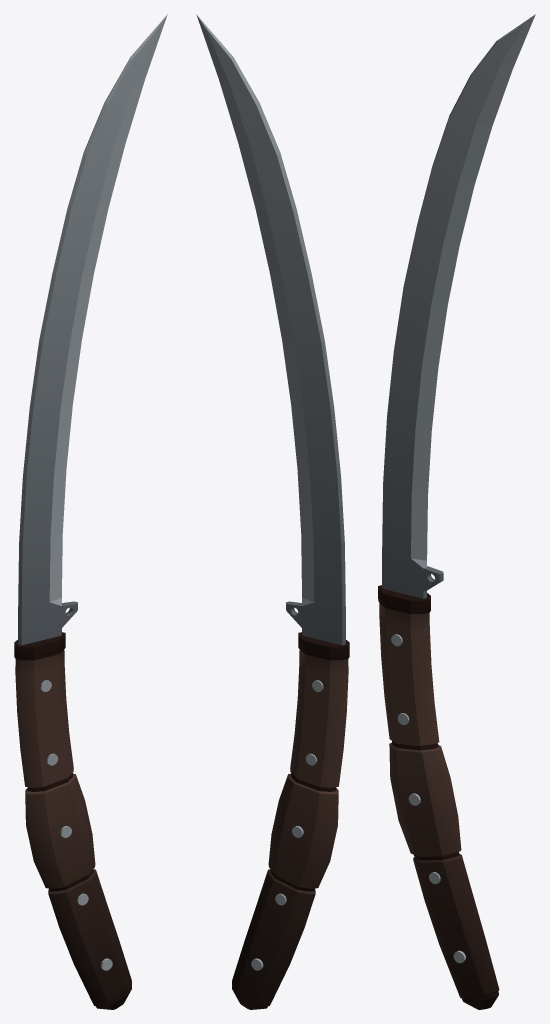
File: SM_Sword14_Rhomphaia_1.fbx
3 views of the same model, side by side, from view 1: azimuth 30°, elevation 25°; view 2: azimuth 150°, elevation 25°; view 3: azimuth 330°, elevation 25° (orthographic). The views are drawn at different scales.
Parts seen in each view (by area): view 1: Cube.468, Cylinder.582, Cylinder.583; view 2: Cube.468, Cylinder.582, Cylinder.583; view 3: Cube.468, Cylinder.582, Cylinder.583.
Part boxes in pixels (box(x1,y1,x2,y2)): Cube.468: box(18, 14, 167, 645); Cylinder.582: box(14, 632, 131, 1009); Cylinder.583: box(40, 680, 112, 970); Cube.468: box(196, 14, 345, 645); Cylinder.582: box(232, 632, 349, 1009); Cylinder.583: box(251, 680, 323, 970); Cube.468: box(382, 14, 535, 598); Cylinder.582: box(378, 585, 499, 1009); Cylinder.583: box(391, 634, 465, 963).
Bounding box in the file's own units: 0.1365 × 0.8344 × 0.027.
